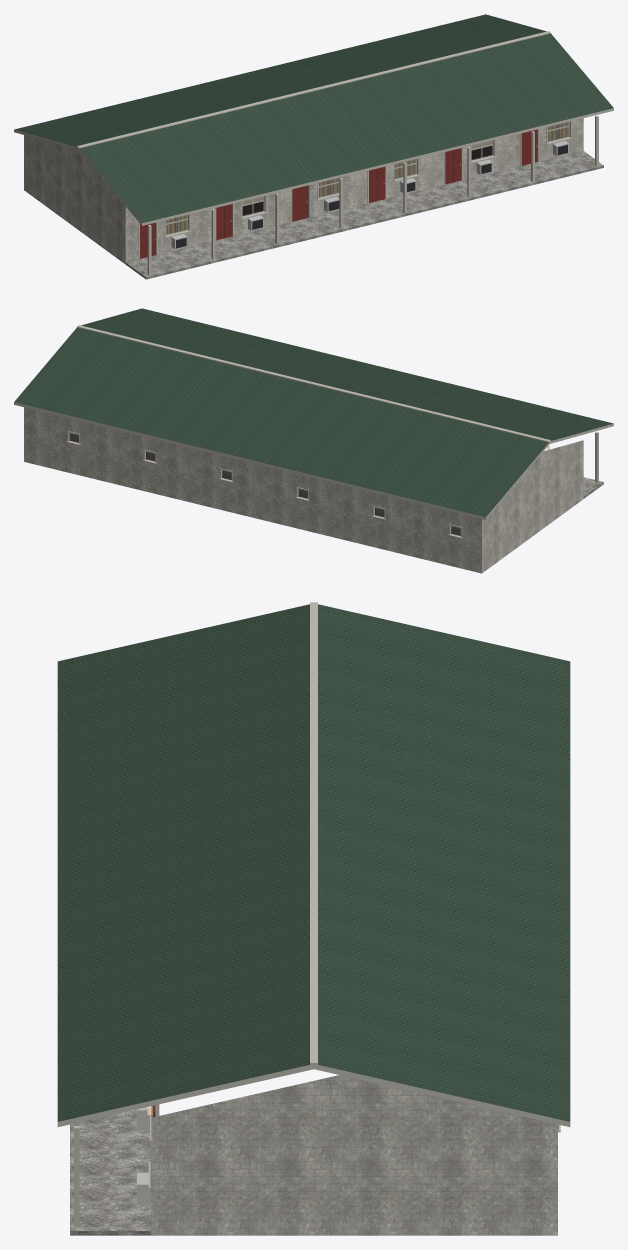
File: town_motel_wing 2.gltf
The picture shows the model from 3 angles, top to bottom: view 1: azimuth 30°, elevation 25°; view 2: azimuth 150°, elevation 25°; view 3: azimuth 270°, elevation 25°; orthographic projection. The views are drawn at different scales.
Parts seen in each view (by area): view 1: TownMotelWing_Roof, TownMotelWing_Walls, TownMotelWing_Walk, TownMotelWing_ClosedDoor, TownMotelWing_Window, TownMotelWing_Fascia, TownMotelWing_Posts, TownMotelWing_Ridge, TownMotelWing_Trim, TownMotelWing_AC, TownMotelWing_ACGrille, TownMotelWing_Door_3_Leaf; view 2: TownMotelWing_Roof, TownMotelWing_Walls, TownMotelWing_Fascia, TownMotelWing_Ridge, TownMotelWing_Window, TownMotelWing_Trim; view 3: TownMotelWing_Roof, TownMotelWing_Walls, TownMotelWing_Walk, TownMotelWing_Ridge, TownMotelWing_Fascia.
Boxes of the visible parts, bbox=[...] form: TownMotelWing_Roof: bbox=[14, 14, 613, 223]; TownMotelWing_Walls: bbox=[24, 118, 583, 264]; TownMotelWing_Walk: bbox=[125, 151, 603, 279]; TownMotelWing_ClosedDoor: bbox=[140, 129, 537, 258]; TownMotelWing_Window: bbox=[166, 121, 569, 235]; TownMotelWing_Fascia: bbox=[14, 108, 613, 225]; TownMotelWing_Posts: bbox=[147, 115, 598, 275]; TownMotelWing_Ridge: bbox=[77, 31, 550, 148]; TownMotelWing_Trim: bbox=[138, 121, 572, 259]; TownMotelWing_AC: bbox=[171, 141, 568, 249]; TownMotelWing_ACGrille: bbox=[176, 144, 567, 248]; TownMotelWing_Door_3_Leaf: bbox=[292, 185, 307, 221]; TownMotelWing_Roof: bbox=[14, 308, 613, 517]; TownMotelWing_Walls: bbox=[24, 407, 583, 573]; TownMotelWing_Fascia: bbox=[14, 402, 613, 519]; TownMotelWing_Ridge: bbox=[77, 325, 550, 442]; TownMotelWing_Window: bbox=[69, 433, 460, 535]; TownMotelWing_Trim: bbox=[66, 431, 461, 538]; TownMotelWing_Roof: bbox=[57, 604, 570, 1121]; TownMotelWing_Walls: bbox=[151, 1075, 557, 1235]; TownMotelWing_Walk: bbox=[70, 1109, 151, 1235]; TownMotelWing_Ridge: bbox=[310, 602, 317, 1064]; TownMotelWing_Fascia: bbox=[57, 1064, 570, 1126].
Size of what is drawn, in the model's own units: 26.8 by 4.87 by 12.6.
Materials: 2 (2 with a texture image).
